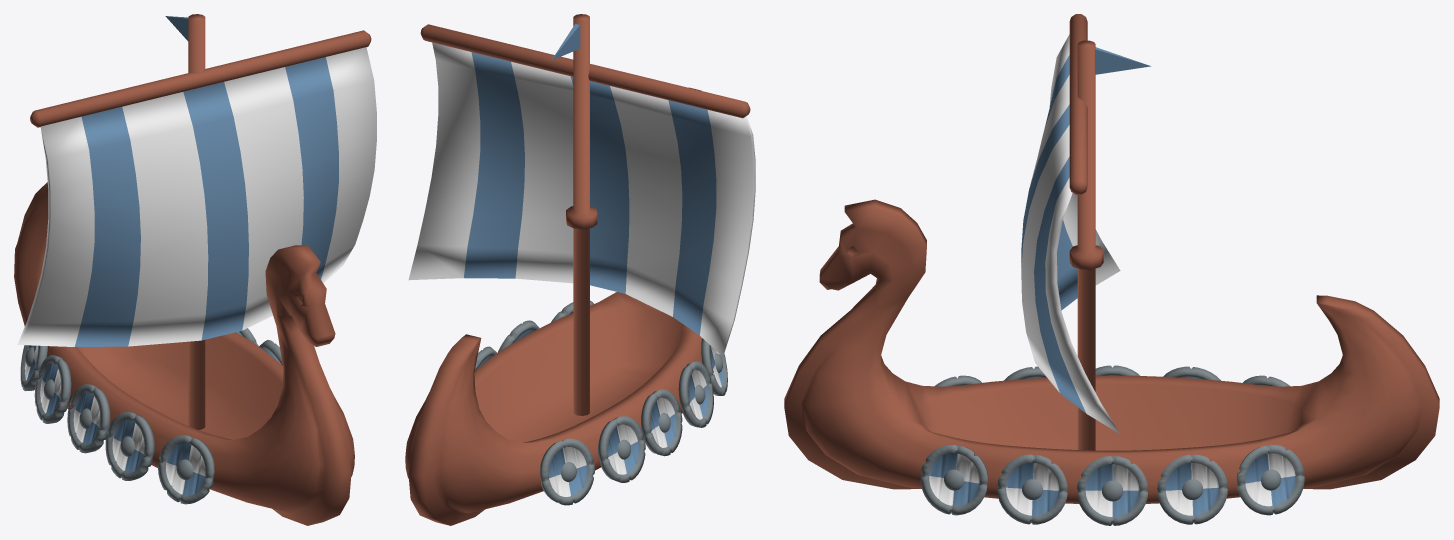
The model's file is longboat.glb.
3 views of the same model, side by side, from view 1: azimuth 30°, elevation 25°; view 2: azimuth 150°, elevation 25°; view 3: azimuth 270°, elevation 25° (orthographic). The views are drawn at different scales.
Parts seen in each view (by area): view 1: longboatSail, longboat; view 2: longboatSail, longboat; view 3: longboat, longboatSail.
Part boxes in pixels (left/top/right/bottom): longboatSail: left=17, top=14, right=376, bottom=429; longboat: left=14, top=182, right=354, bottom=525; longboatSail: left=408, top=14, right=755, bottom=415; longboat: left=405, top=87, right=727, bottom=525; longboat: left=784, top=199, right=1439, bottom=525; longboatSail: left=1021, top=14, right=1150, bottom=450.
Bounding box in the file's own units: 5.04 × 6.12 × 8.25.
